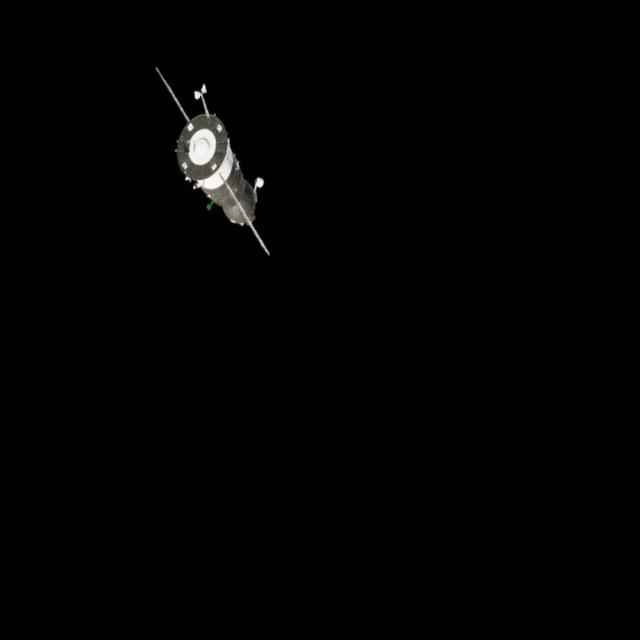Satellites revolving around earth: (129, 64, 295, 260)
